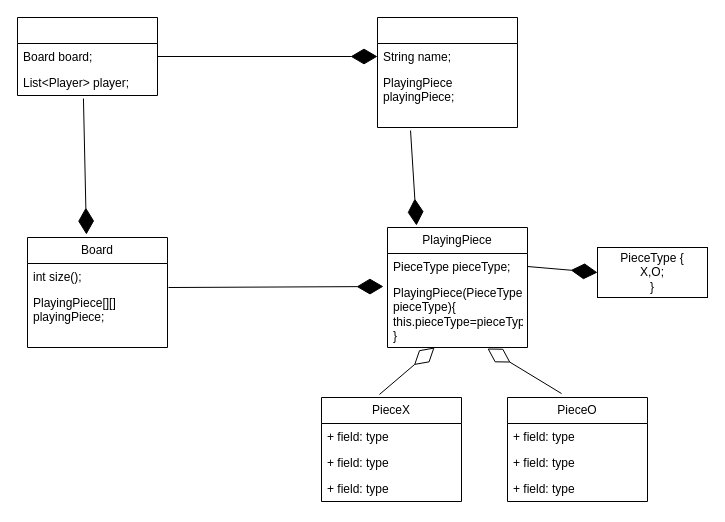
The diagram is 725 pixels wide and 522 high, and some of its shapes have lost their labels. The box of each missing label's shape, as (x1, y1, x2, y2) in pixels:
Game: (16, 16, 158, 96)
Player: (376, 16, 518, 128)
